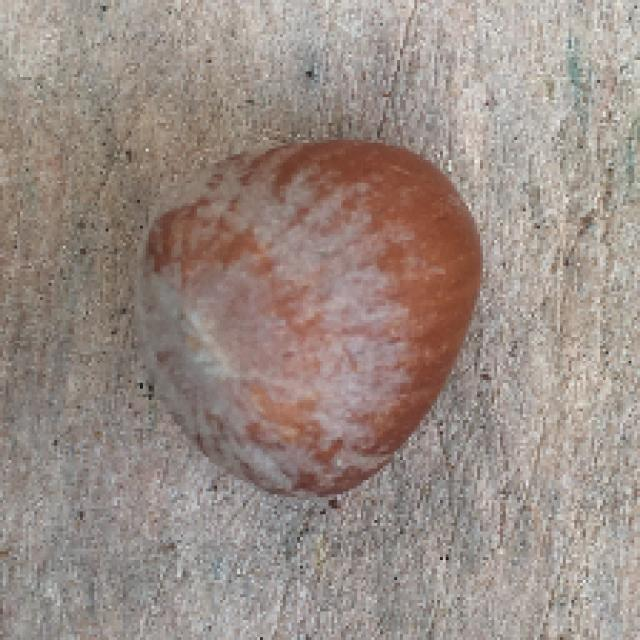qualityHazelnut: (117, 120, 488, 510)
